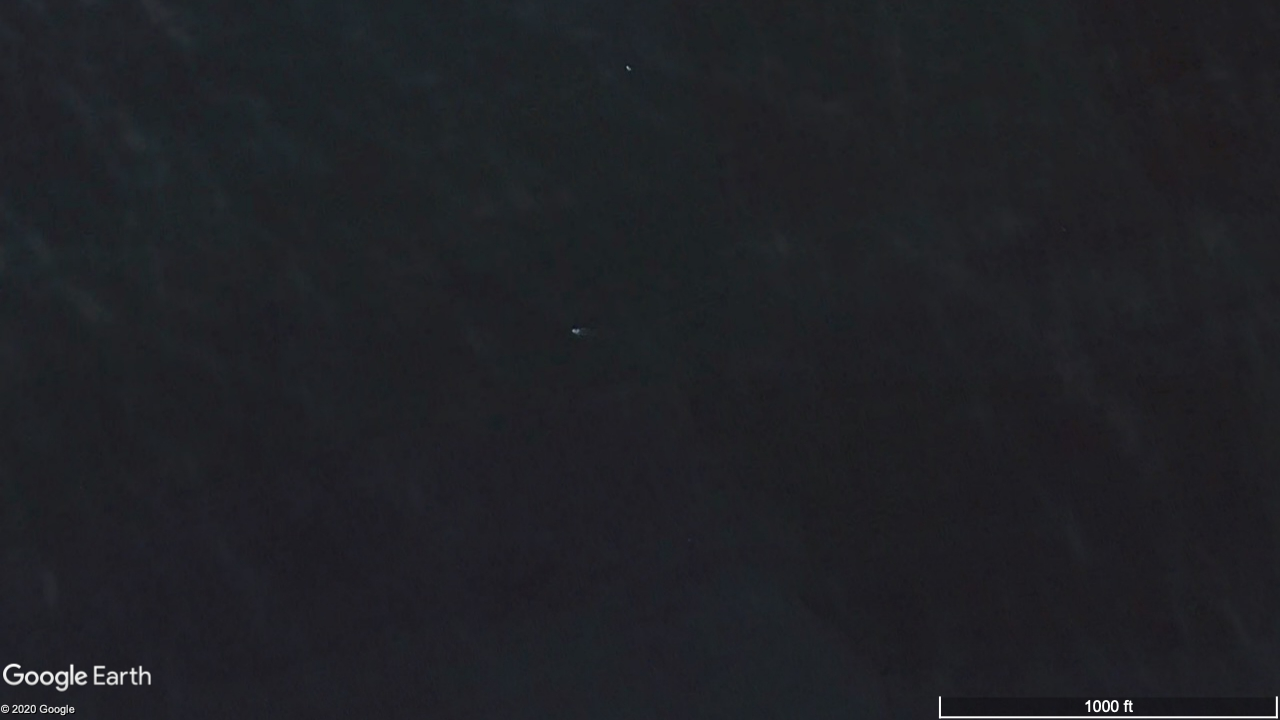satboat: (571, 328, 580, 334), (625, 64, 632, 70)
